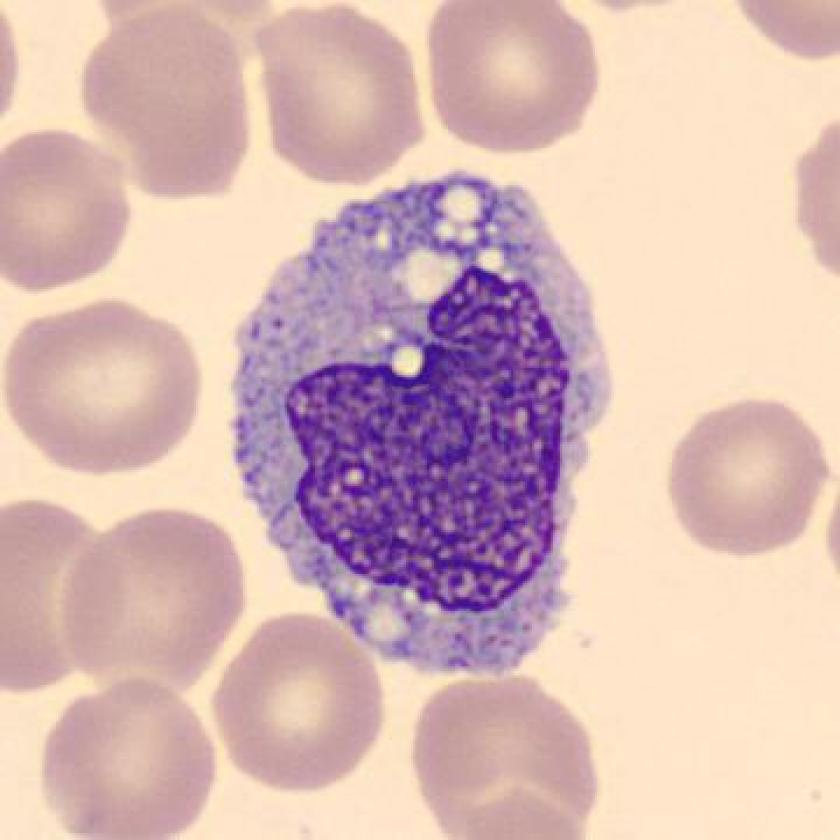monocyte: (204, 151, 636, 693)
